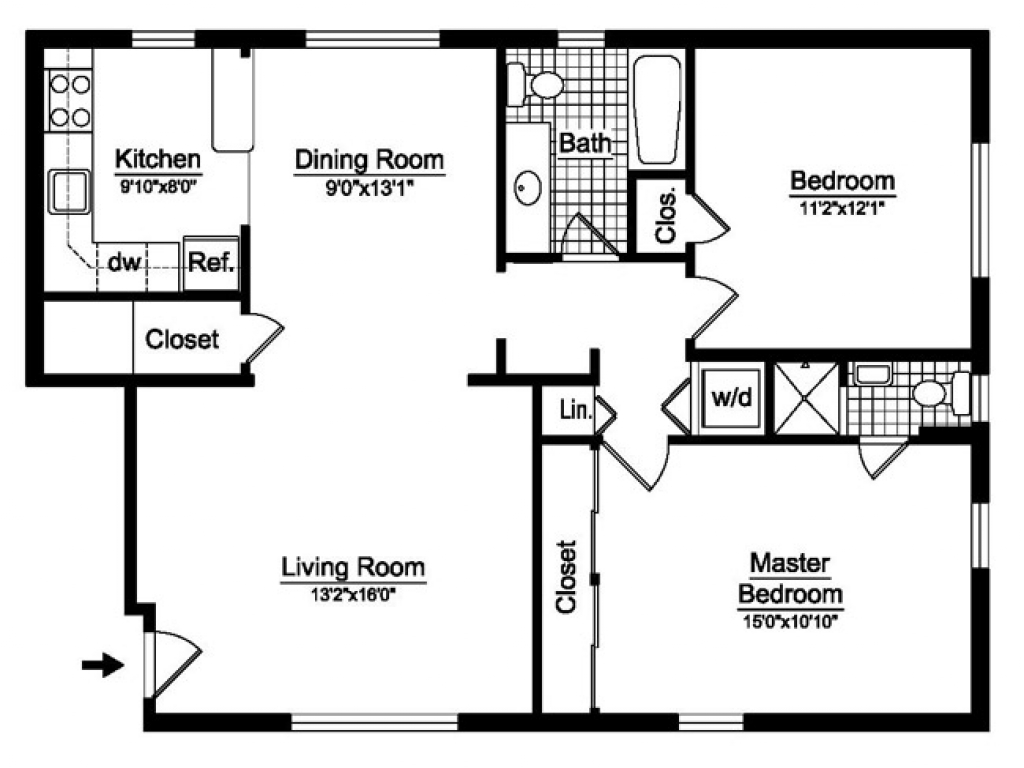door: (601, 451, 685, 507), (162, 620, 211, 697), (696, 192, 744, 258), (700, 272, 750, 330), (250, 307, 299, 361)
window: (970, 142, 992, 276), (295, 715, 449, 733), (305, 30, 438, 48), (681, 709, 740, 738), (970, 501, 987, 569), (556, 29, 603, 49), (130, 30, 192, 45)
